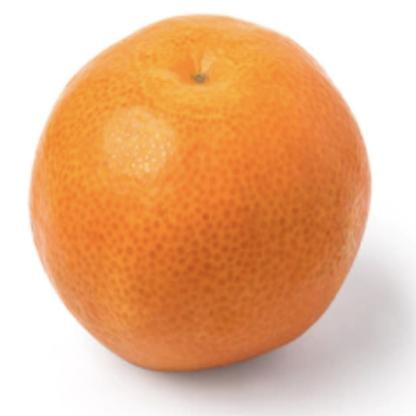fresh: (31, 14, 373, 374)
